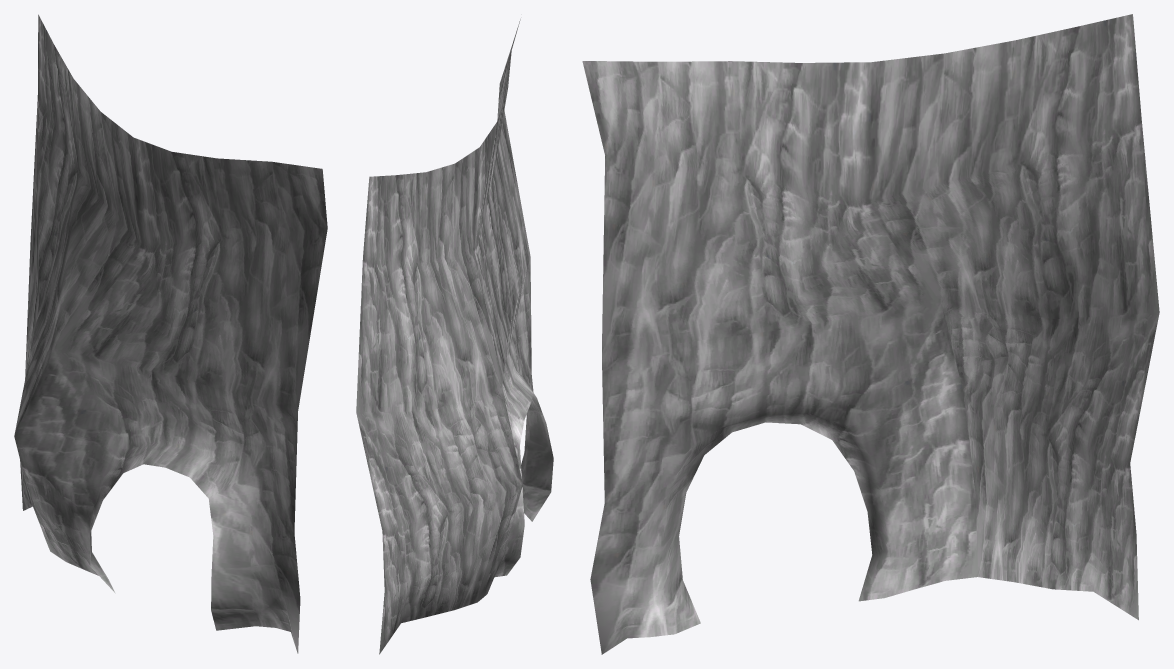
Rendered from SWORDLIGHT20_PS-AREA03_181.fbx.
The picture shows the model from 3 angles, left to right: view 1: azimuth 30°, elevation 25°; view 2: azimuth 150°, elevation 25°; view 3: azimuth 270°, elevation 25°; orthographic projection. The views are drawn at different scales.
Visible parts, largest first — view 1: SWORDLIGHT20_PS-AREA03_181; view 2: SWORDLIGHT20_PS-AREA03_181; view 3: SWORDLIGHT20_PS-AREA03_181.
Part boxes in pixels (<box>): SWORDLIGHT20_PS-AREA03_181: <box>14,14,327,653</box>; SWORDLIGHT20_PS-AREA03_181: <box>356,19,553,654</box>; SWORDLIGHT20_PS-AREA03_181: <box>582,14,1159,654</box>.
Size of the model in its own units: 54485 by 152829 by 130181.
Materials: 1 (1 with a texture image).
